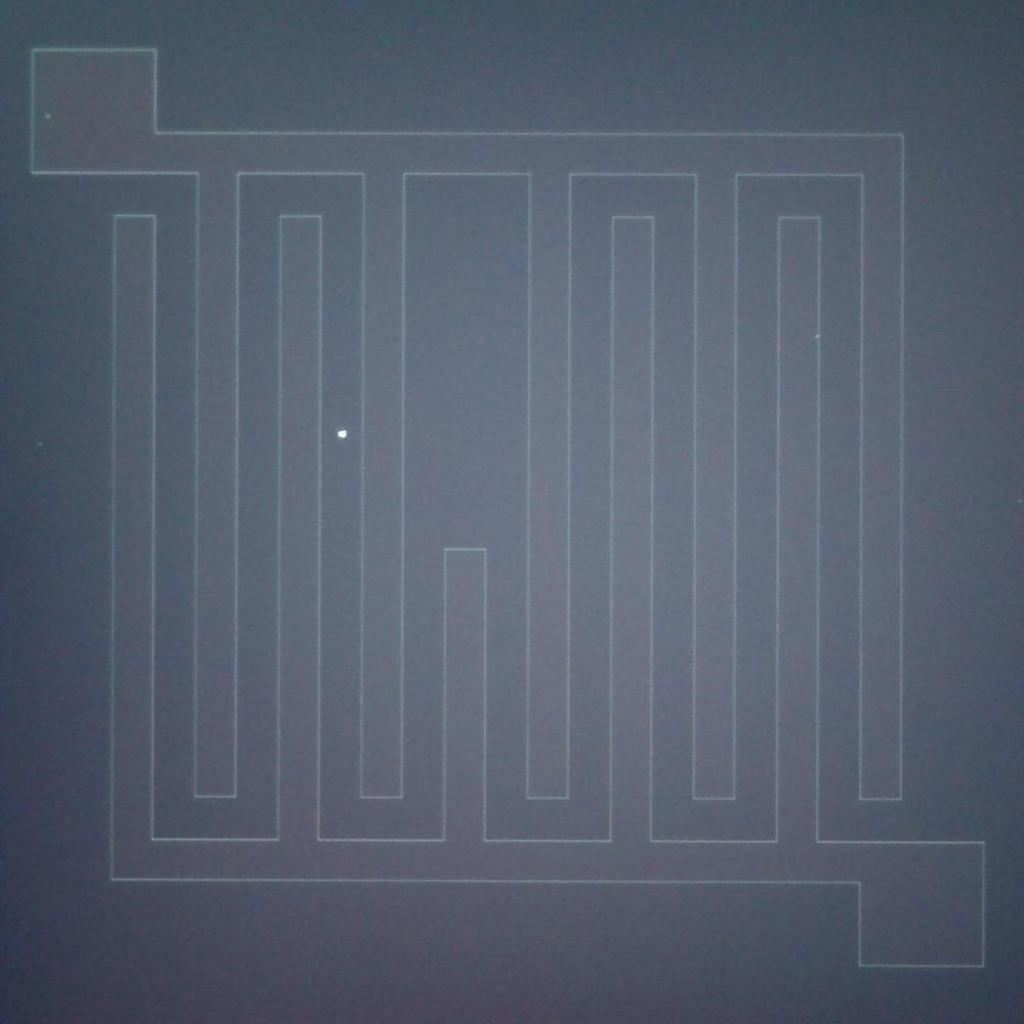cut circuit: (424, 192, 504, 879)
spot: (330, 423, 353, 447)
